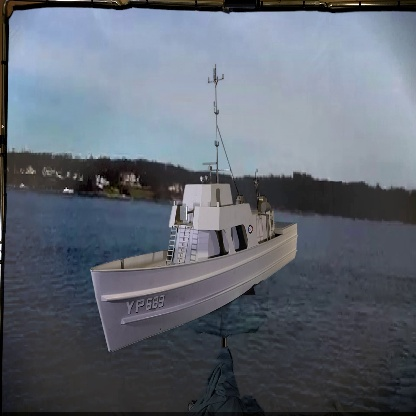YP689: (89, 60, 300, 352)
